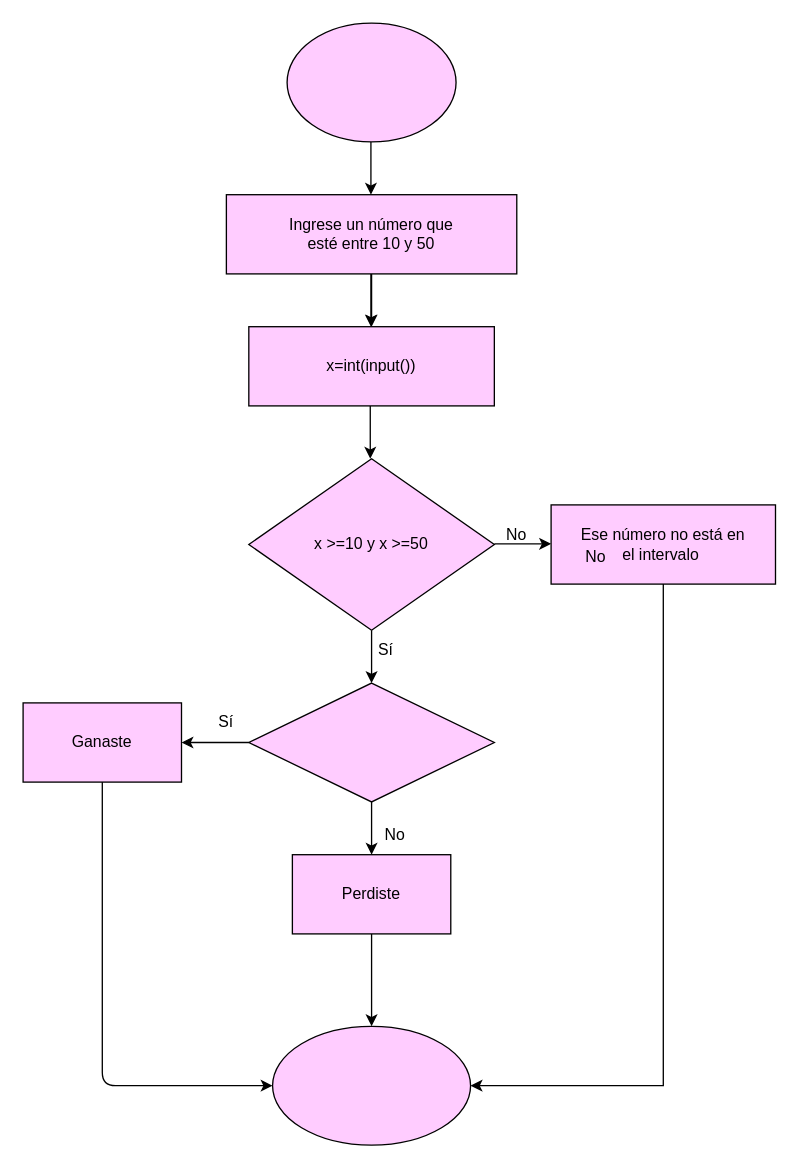
The diagram is 799 pixels wide and 1168 high, and some of its shapes have lost their labels. The centre of each missing label's shape, as x and y in pixels:
"Fin" belongs at [371,1085].
"Inicio" belongs at [371,82].
"x=30" belongs at [371,742].
